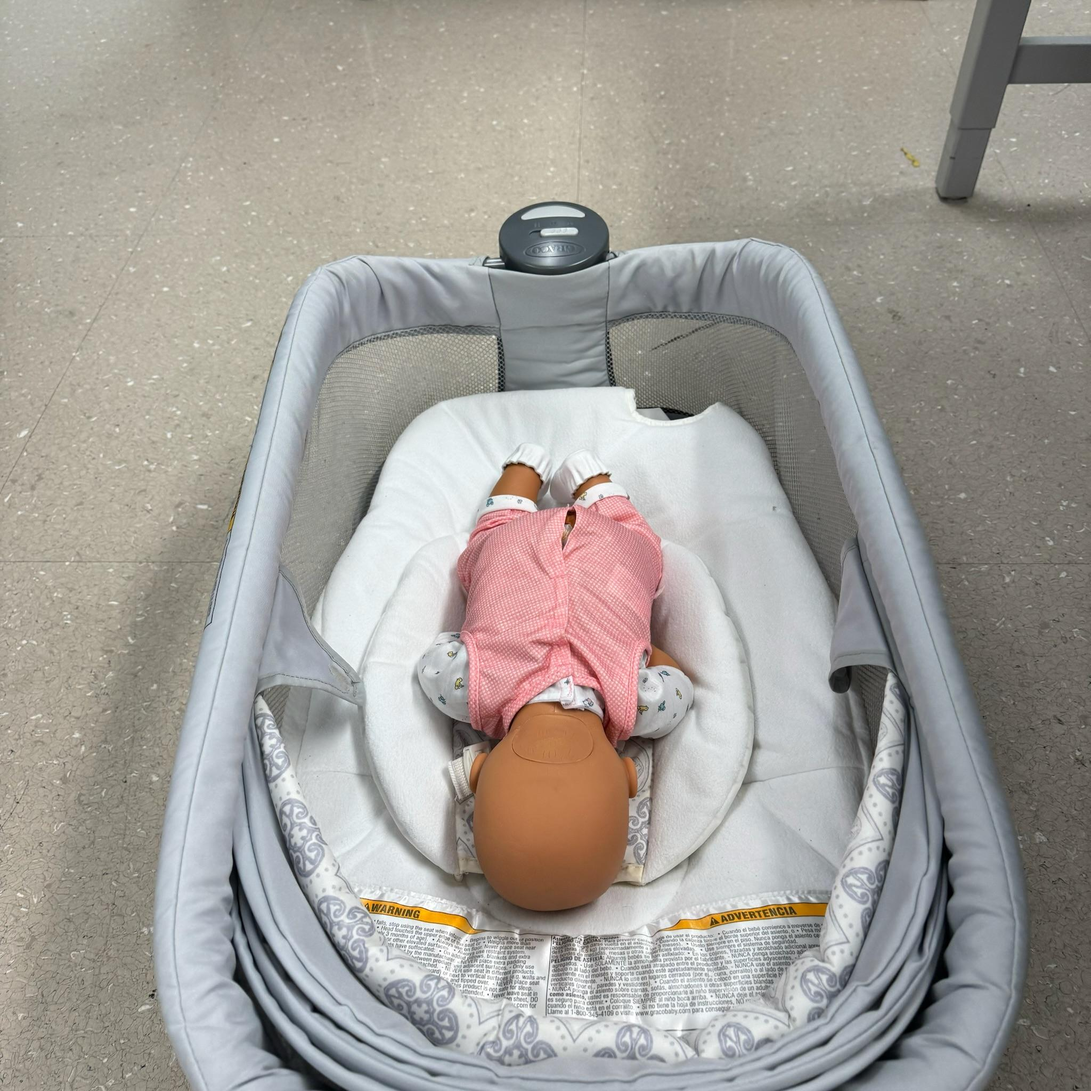baby: (416, 431, 710, 911)
